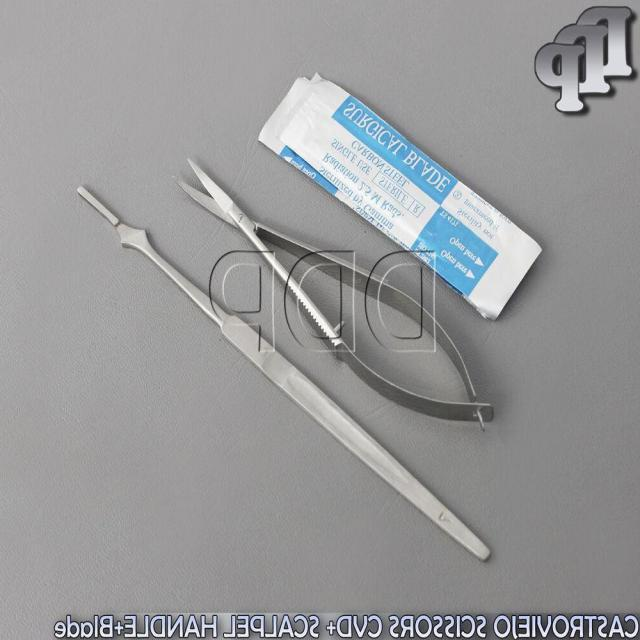Potts: (170, 146, 506, 444)
Scalpel: (69, 172, 497, 570)
